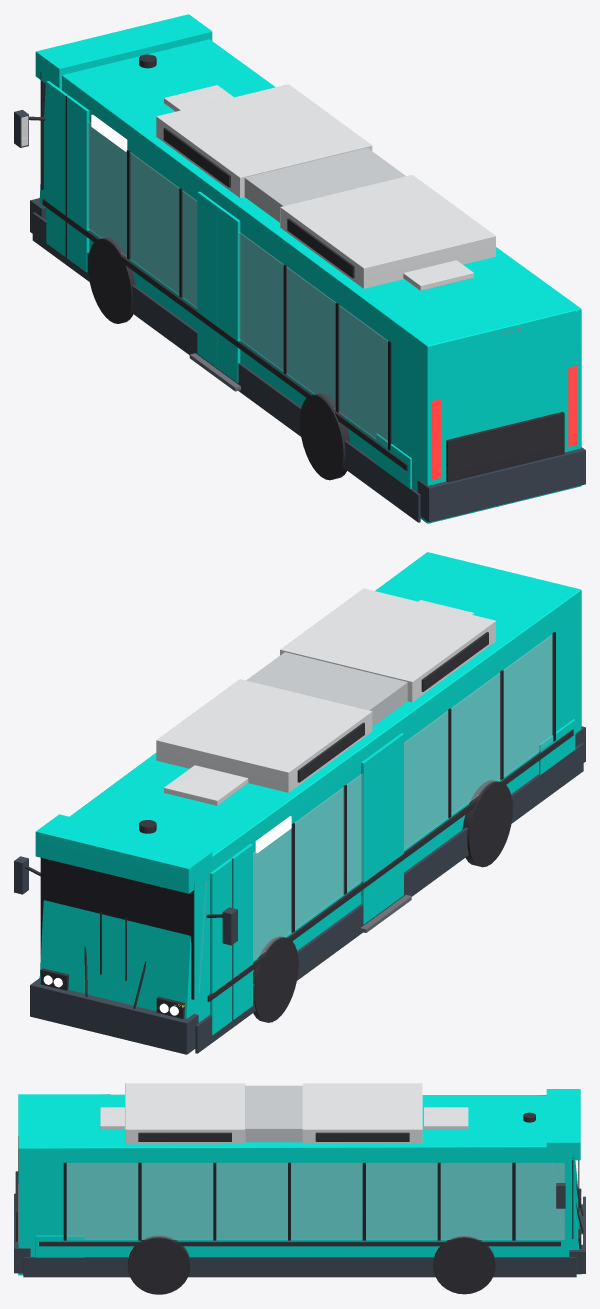
The model's file is body-framework.glb.
3 renders of one model, top to bottom at view 1: azimuth 30°, elevation 25°; view 2: azimuth 150°, elevation 25°; view 3: azimuth 270°, elevation 25°, orthographic. The views are drawn at different scales.
Parts seen in each view (by area): view 1: BODY_Transit_Monocoque_Shell, GLASS_Side_Passenger_Ribbon_R, BODY_Roof_HVAC_Unit_Rear_Cabin, BODY_Roof_HVAC_Unit_Front_Passenger, BODY_Lower_Rocker_Skirting_R, BODY_Rear_Bumper_Fascia, BODY_Roof_Battery_Pack_HighVoltage, BODY_Front_Destination_Header_Fairing, BODY_Rear_Engine_Cooling_Louver, DOOR_Center_BiFold_Leaf_2, DOOR_Front_BiFold_Leaf_2, DOOR_Center_BiFold_Leaf_1 (+11 smaller); view 2: BODY_Transit_Monocoque_Shell, GLASS_Side_Passenger_Ribbon_R, BODY_Roof_HVAC_Unit_Front_Passenger, BODY_Roof_HVAC_Unit_Rear_Cabin, BODY_Front_Destination_Header_Fairing, BODY_Lower_Rocker_Skirting_R, GLASS_Windshield_Frit_Masking_Surround, BODY_Front_Bumper_Fascia, BODY_Roof_Battery_Pack_HighVoltage, DOOR_Center_BiFold_Leaf_1, DOOR_Front_BiFold_Leaf_1, BODY_WheelArch_Flare_RR (+8 smaller); view 3: BODY_Transit_Monocoque_Shell, GLASS_Side_Passenger_Ribbon_L, BODY_Lower_Rocker_Skirting_L, BODY_Roof_HVAC_Unit_Rear_Cabin, BODY_Roof_HVAC_Unit_Front_Passenger, GLASS_Driver_Side_Toll_Vent_Window, BODY_Roof_Battery_Pack_HighVoltage, BODY_WheelArch_Flare_RL, BODY_WheelArch_Flare_FL, BODY_Side_RubStrip_L, BODY_Front_Destination_Header_Fairing, HARDWARE_Roof_Emergency_Escape_Hatch_01 (+12 smaller).
Part boxes in pixels (x1,y1,x2,y2): BODY_Transit_Monocoque_Shell: (39, 39, 581, 523); GLASS_Side_Passenger_Ribbon_R: (87, 121, 387, 447); BODY_Roof_HVAC_Unit_Rear_Cabin: (280, 175, 495, 288); BODY_Roof_HVAC_Unit_Front_Passenger: (156, 84, 372, 197); BODY_Lower_Rocker_Skirting_R: (32, 212, 420, 522); BODY_Rear_Bumper_Fascia: (417, 447, 585, 522); BODY_Roof_Battery_Pack_HighVoltage: (244, 148, 405, 222); BODY_Front_Destination_Header_Fairing: (35, 14, 212, 89); BODY_Rear_Engine_Cooling_Louver: (446, 411, 564, 482); DOOR_Center_BiFold_Leaf_2: (217, 206, 240, 382); DOOR_Front_BiFold_Leaf_2: (67, 95, 89, 272); DOOR_Center_BiFold_Leaf_1: (197, 191, 219, 367); BODY_Transit_Monocoque_Shell: (39, 552, 581, 1022); GLASS_Side_Passenger_Ribbon_R: (253, 634, 552, 960); BODY_Roof_HVAC_Unit_Front_Passenger: (156, 679, 372, 792); BODY_Roof_HVAC_Unit_Rear_Cabin: (280, 588, 495, 702); BODY_Front_Destination_Header_Fairing: (35, 814, 212, 893); BODY_Lower_Rocker_Skirting_R: (195, 743, 583, 1053); GLASS_Windshield_Frit_Masking_Surround: (40, 858, 194, 999); BODY_Front_Bumper_Fascia: (30, 978, 198, 1054); BODY_Roof_Battery_Pack_HighVoltage: (246, 652, 407, 726); DOOR_Center_BiFold_Leaf_1: (361, 748, 383, 924); DOOR_Front_BiFold_Leaf_1: (210, 858, 232, 1035); BODY_WheelArch_Flare_RR: (462, 780, 512, 867); BODY_Transit_Monocoque_Shell: (18, 1094, 581, 1275); GLASS_Side_Passenger_Ribbon_L: (66, 1163, 512, 1239); BODY_Lower_Rocker_Skirting_L: (23, 1257, 576, 1277); BODY_Roof_HVAC_Unit_Rear_Cabin: (125, 1083, 245, 1144); BODY_Roof_HVAC_Unit_Front_Passenger: (302, 1083, 422, 1143); GLASS_Driver_Side_Toll_Vent_Window: (515, 1163, 564, 1239); BODY_Roof_Battery_Pack_HighVoltage: (245, 1085, 302, 1142); BODY_WheelArch_Flare_RL: (127, 1235, 190, 1294); BODY_WheelArch_Flare_FL: (433, 1236, 495, 1294); BODY_Side_RubStrip_L: (39, 1241, 560, 1246); BODY_Front_Destination_Header_Fairing: (546, 1089, 580, 1160); HARDWARE_Roof_Emergency_Escape_Hatch_01: (424, 1107, 468, 1129).
Bounding box in the file's own units: 3.45 × 3.36 × 10.96.
